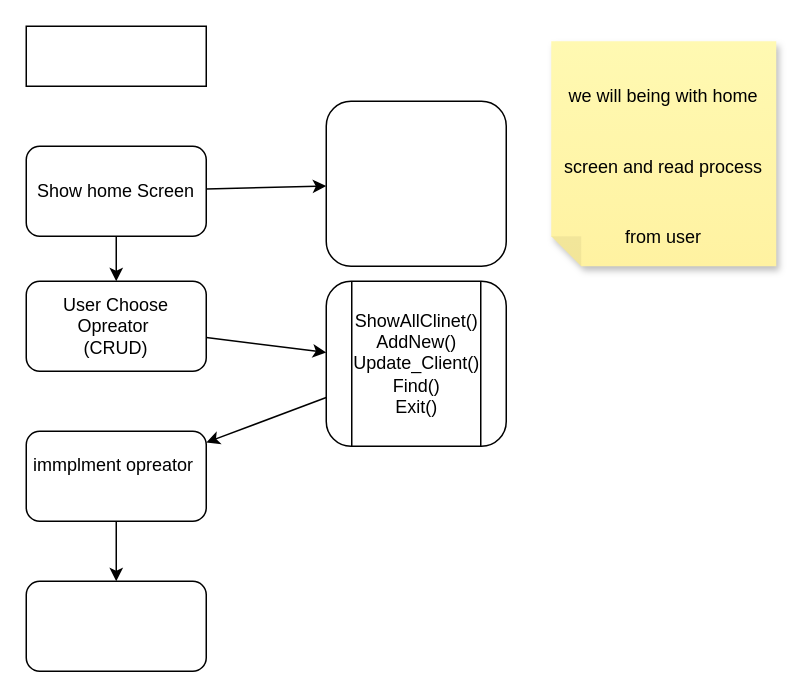
The diagram is 812 pixels wide and 698 high, and some of its shapes have lost their labels. Here are the shapes that lost their labels. From the top down, the centre of each, then its label:
pixel 115 55: Bank Manger
pixel 415 183: 1 - show 2 - add new 3 - update 4 - delete 5 - find 6 - exit
pixel 115 625: go back to home screen
